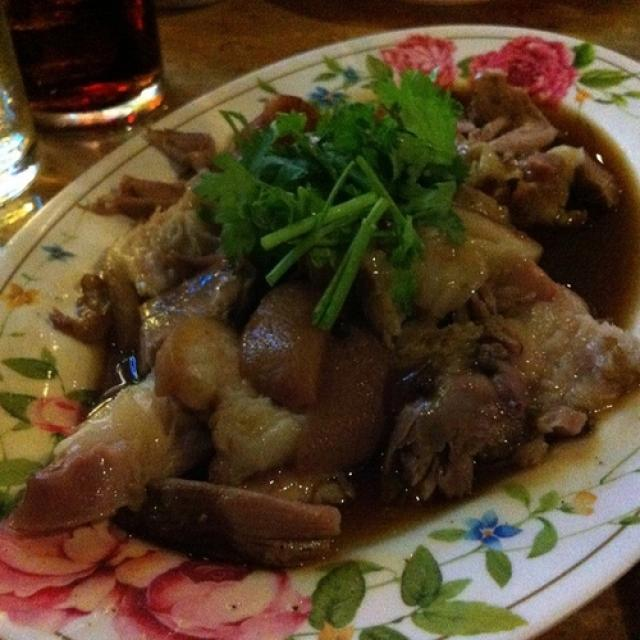猪肉菜式: (47, 47, 616, 608)
